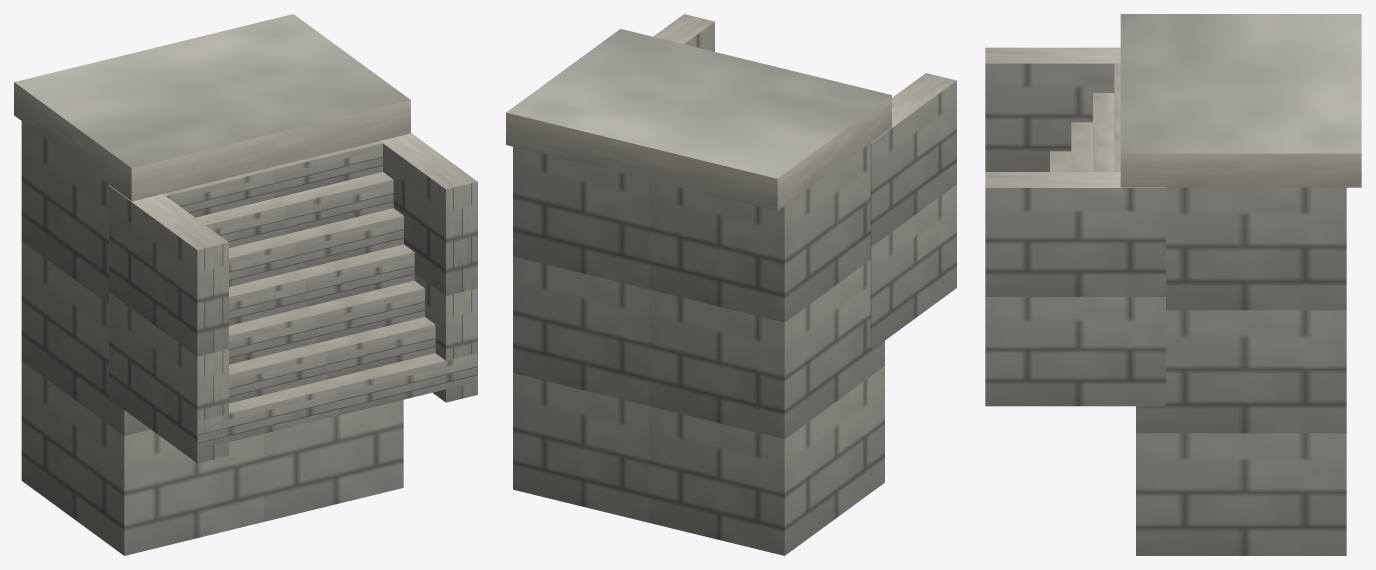
File: dock_quay_steps_01.glb
The picture shows the model from 3 angles, left to right: view 1: azimuth 30°, elevation 25°; view 2: azimuth 150°, elevation 25°; view 3: azimuth 270°, elevation 25°; orthographic projection. The views are drawn at different scales.
Visible parts, largest first — view 1: dock_quay_steps_01; view 2: dock_quay_steps_01; view 3: dock_quay_steps_01.
Part boxes in pixels (x1,y1,x2,y2): dock_quay_steps_01: (14, 14, 477, 555); dock_quay_steps_01: (506, 14, 956, 555); dock_quay_steps_01: (985, 14, 1361, 555).
Bounding box in the file's own units: 2.2 × 2.95 × 2.5.
Materials: 1 (1 with a texture image).
